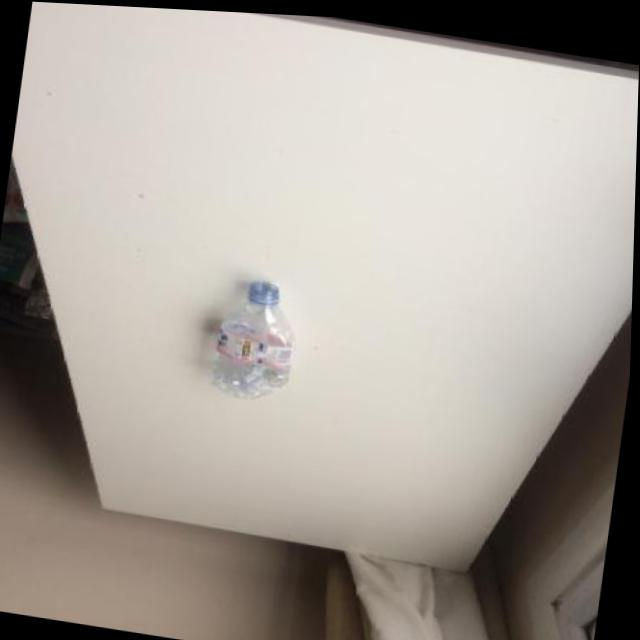plastic: (207, 274, 303, 407)
